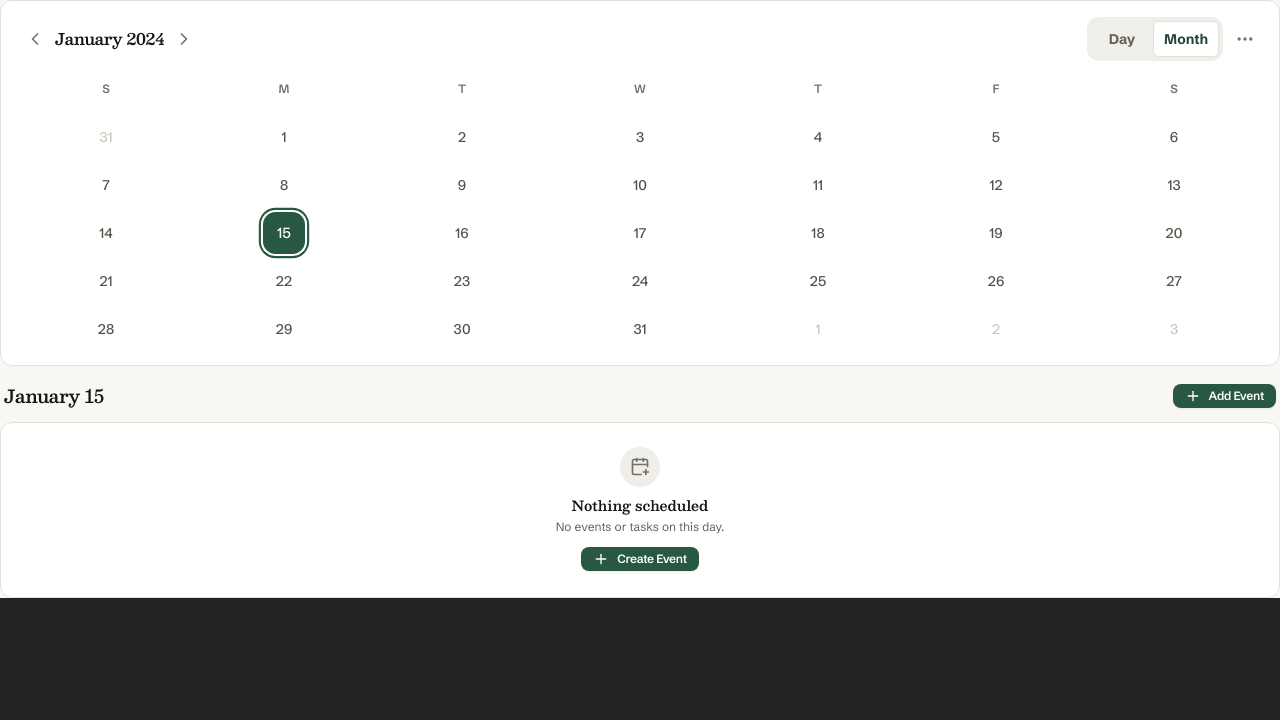
Scenario: BudgetCalendar › opens add modal when Add Event button is clicked
Note: Find "Add Event" button
Click the button "Add Event": (1224, 396) x1=1173 y1=384 x2=1276 y2=408
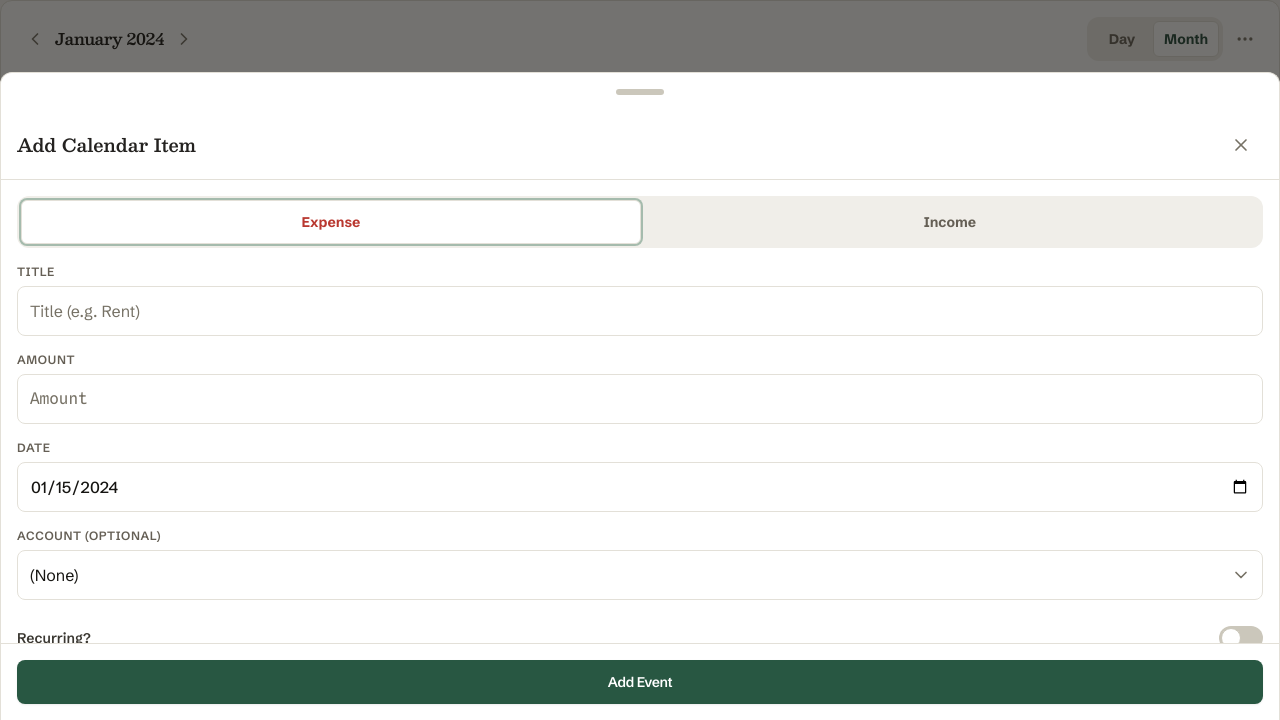
Expected: the heading "Add Calendar Item" is shown, x1=17 y1=131 x2=196 y2=159
Expected: the field with placeholder "Title (e.g. Rent)" is shown, x1=17 y1=286 x2=1263 y2=336
